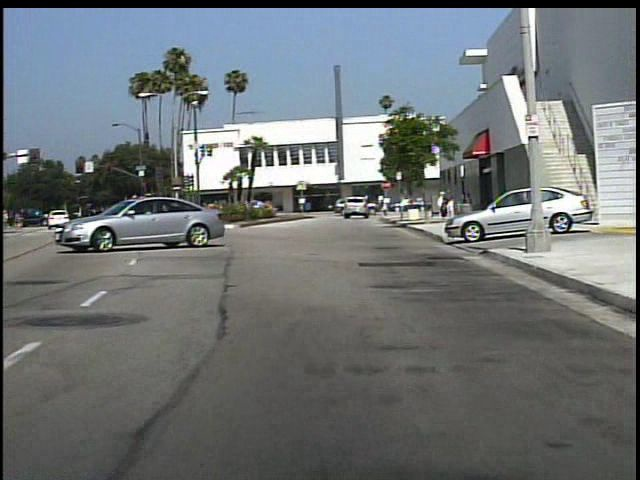person: (461, 190, 478, 222), (444, 188, 459, 224), (378, 191, 393, 219), (437, 192, 447, 220)
